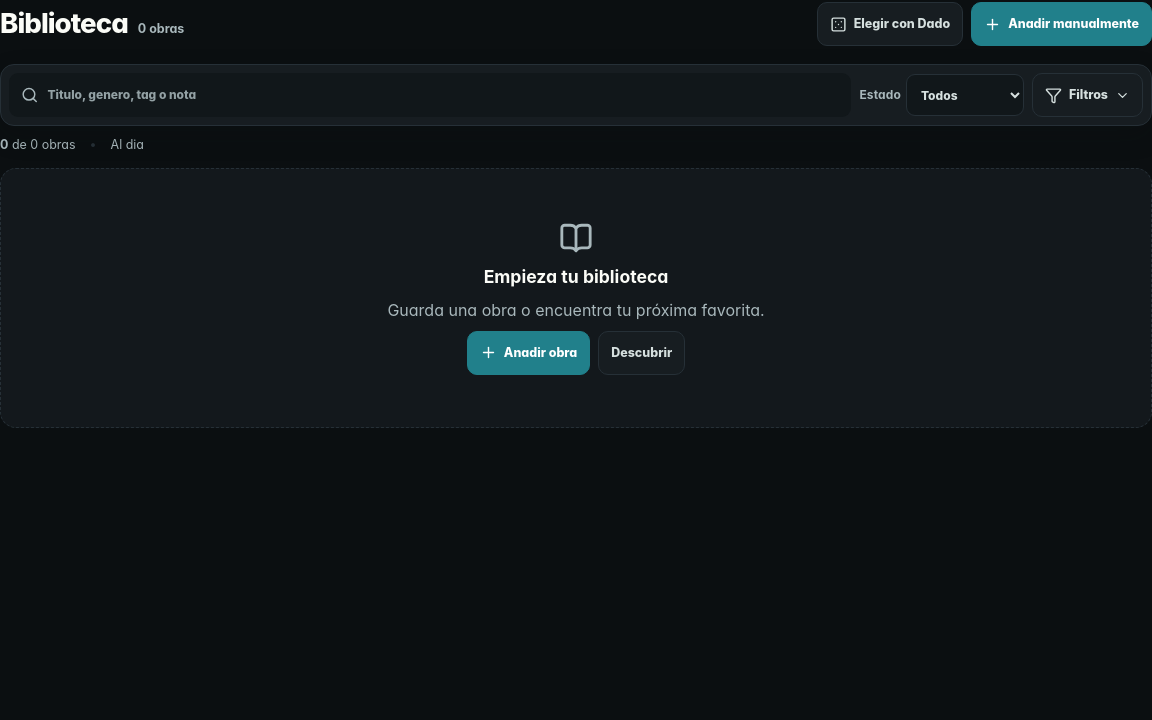
Test: LibraryTab simplificada › ofrece anadir o descubrir desde una biblioteca vacia
The width and height of the screenshot is (1152, 720).
Click the button "Descubrir".
click(642, 353)  # box [598,331,685,375]
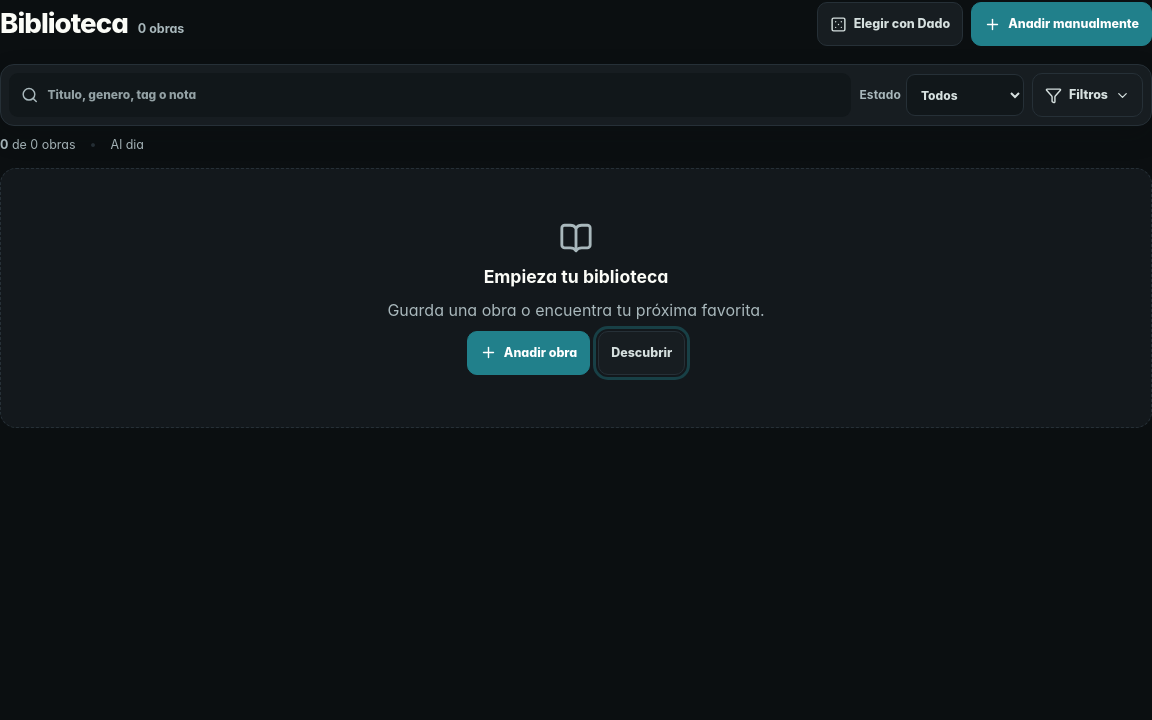
Click the button "Anadir obra".
click(528, 353)  # box [467,331,590,375]
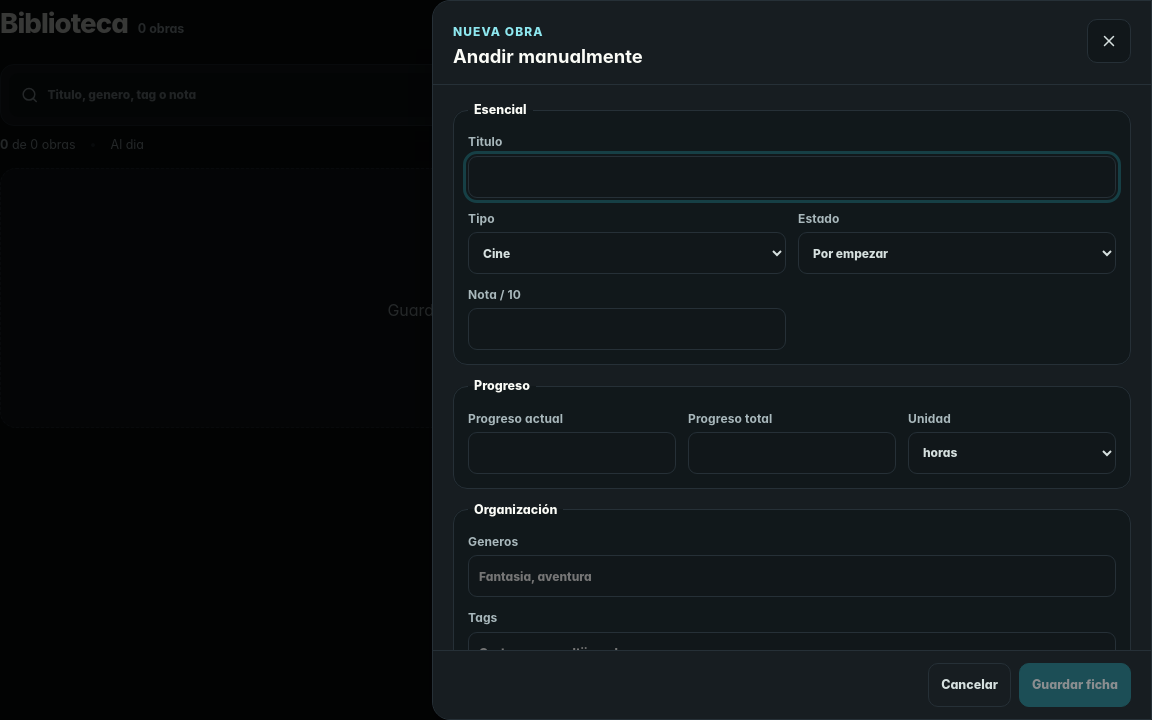
Check: the dialog "Anadir manualmente" is shown
